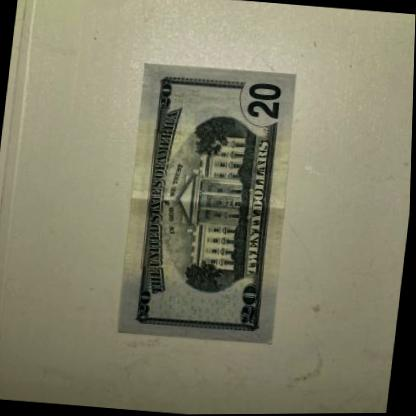twenty-back: (112, 59, 306, 347)
